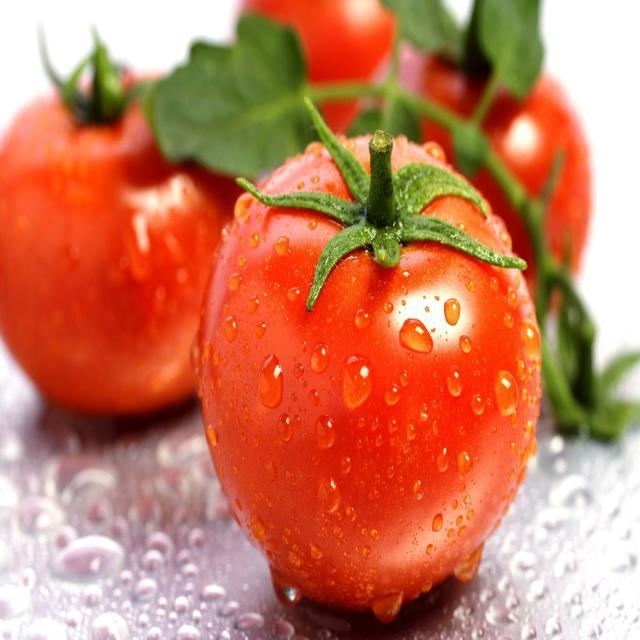kirmizi: (186, 120, 554, 620)
